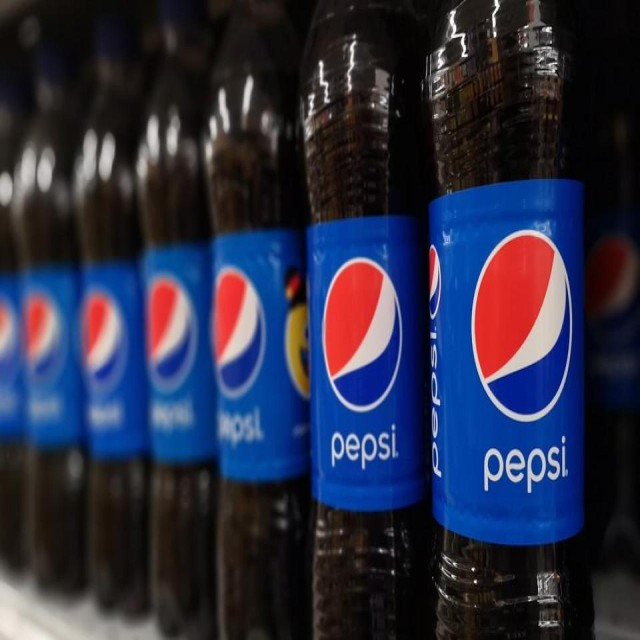pepsi: (466, 231, 577, 428), (322, 252, 407, 419)
